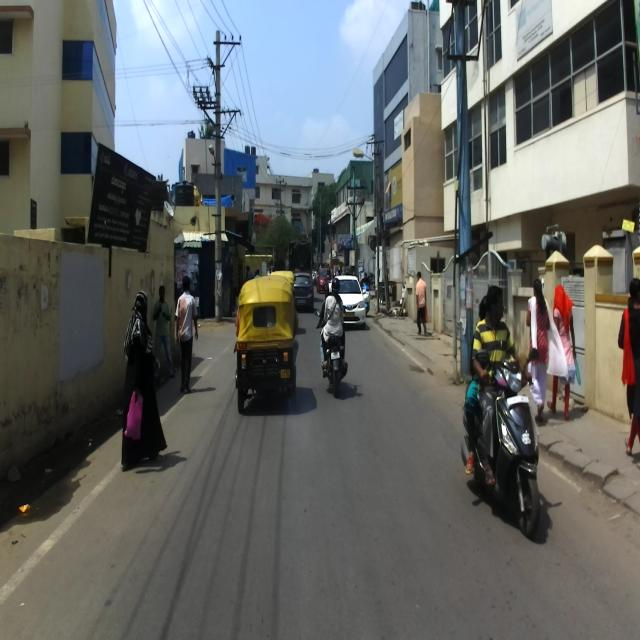auto ahead at: (233, 277, 298, 411)
electric pole ahead at: (196, 28, 235, 318)
motorcycle ahead at: (462, 358, 550, 543)
person ahead at: (123, 287, 164, 466), (173, 275, 201, 386)
